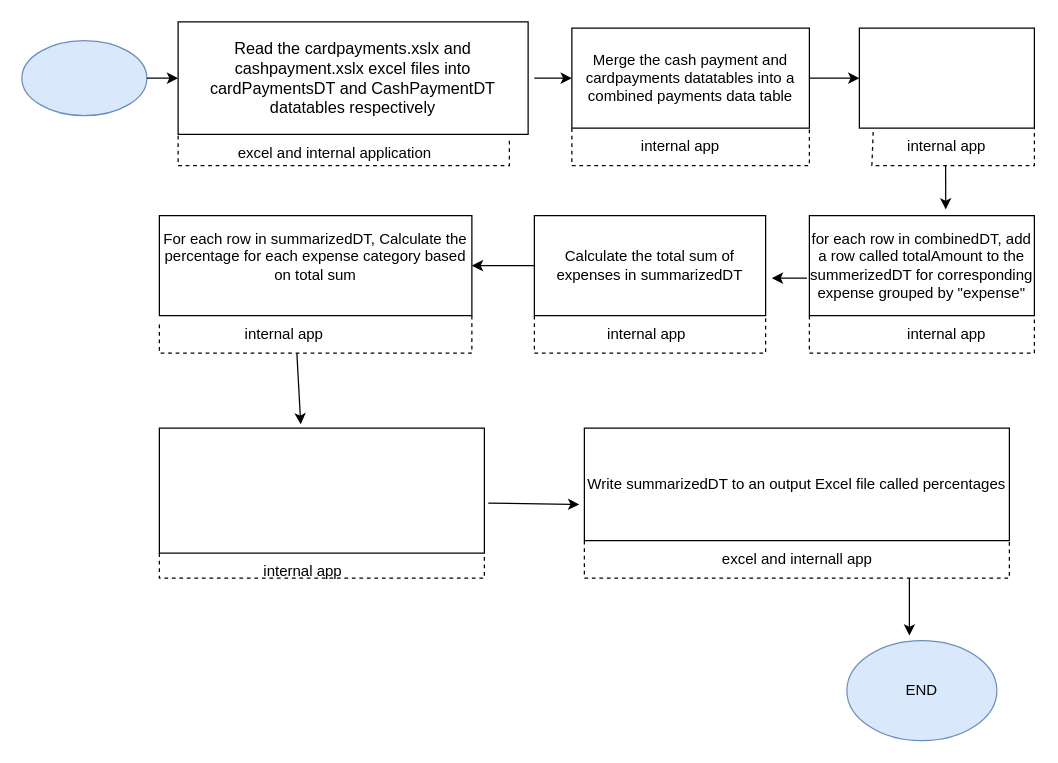
Some shapes in this 1058 by 763 pixel diagram are drawn without their labels. Here are the shapes that lost their labels. From the top down, the centre of each, then its label:
(84,77): START
(946,77): Build a new summerizedDT with columns "expense" , "amount" and percentage
(321,490): Calculate the percentage for each expense category based on total sum
